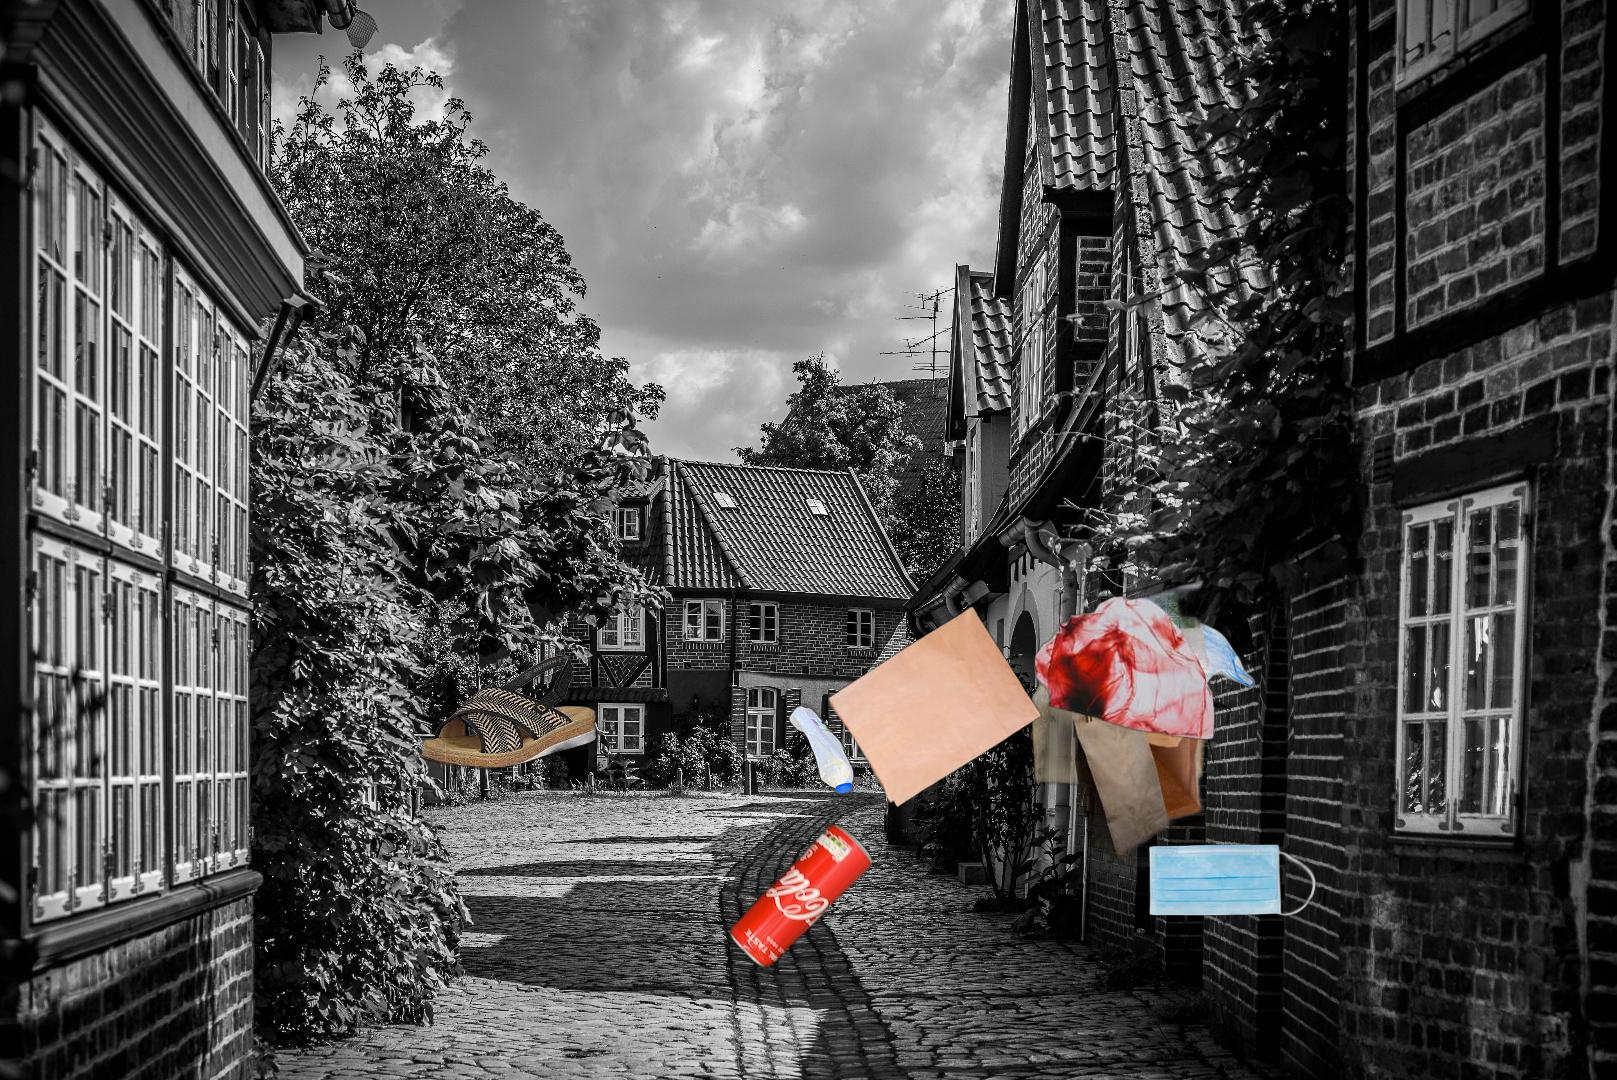metal-cans: (724, 818, 877, 975)
paper-bag: (751, 594, 1043, 839), (1027, 658, 1259, 867)
plastic-bag: (1031, 576, 1259, 742)
plastic-bottles: (1028, 982, 1451, 1080), (784, 698, 858, 802)
shoes: (417, 652, 599, 777)
trash: (1146, 841, 1319, 918)
